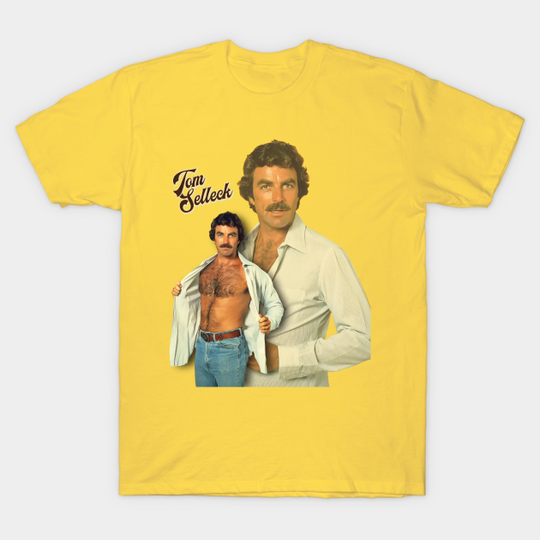design: (166, 136, 374, 391)
